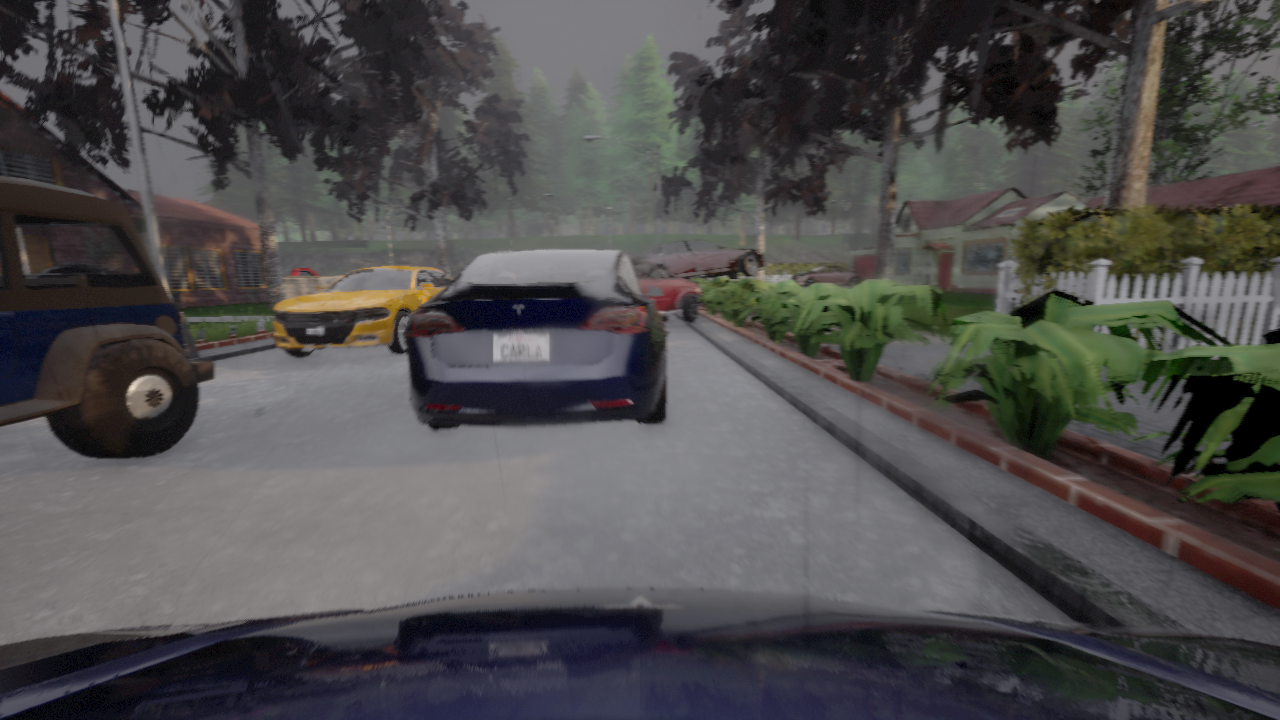cyclist: (0, 588, 1279, 719), (402, 248, 668, 430), (272, 264, 453, 356), (630, 239, 765, 279), (630, 260, 703, 321), (789, 266, 860, 287)
